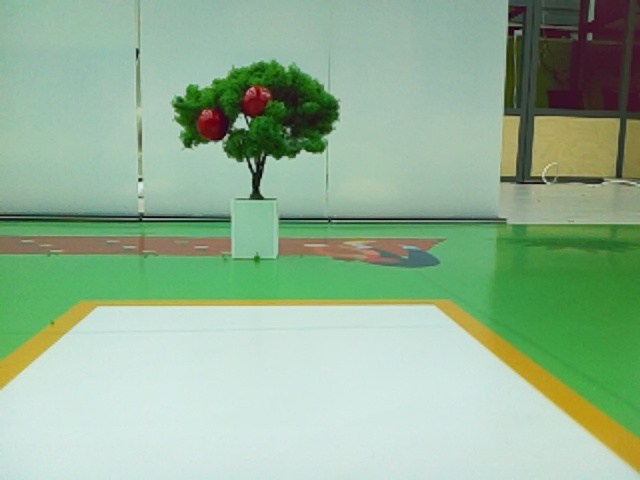apple: (243, 87, 271, 115), (198, 110, 221, 140)
